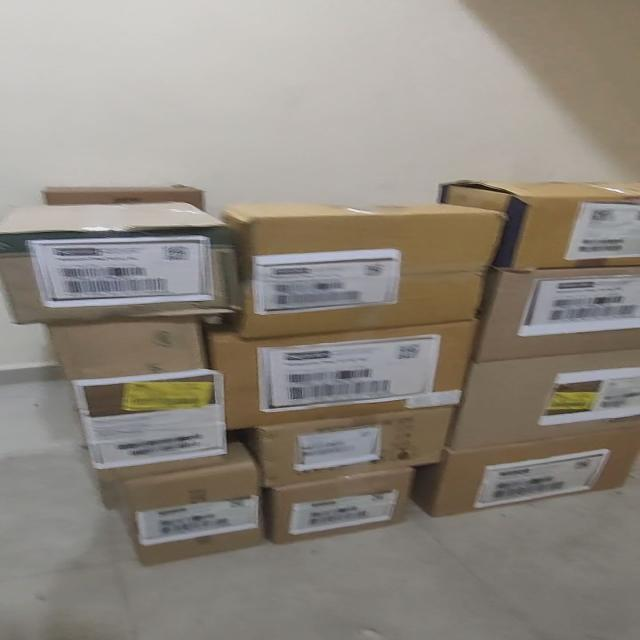BoxFace: (222, 200, 508, 338), (44, 314, 238, 480), (206, 318, 478, 429), (0, 216, 226, 320), (446, 347, 640, 460), (102, 441, 272, 565), (411, 425, 637, 517), (246, 405, 456, 487), (472, 264, 638, 362), (262, 466, 416, 544), (512, 183, 638, 270)
